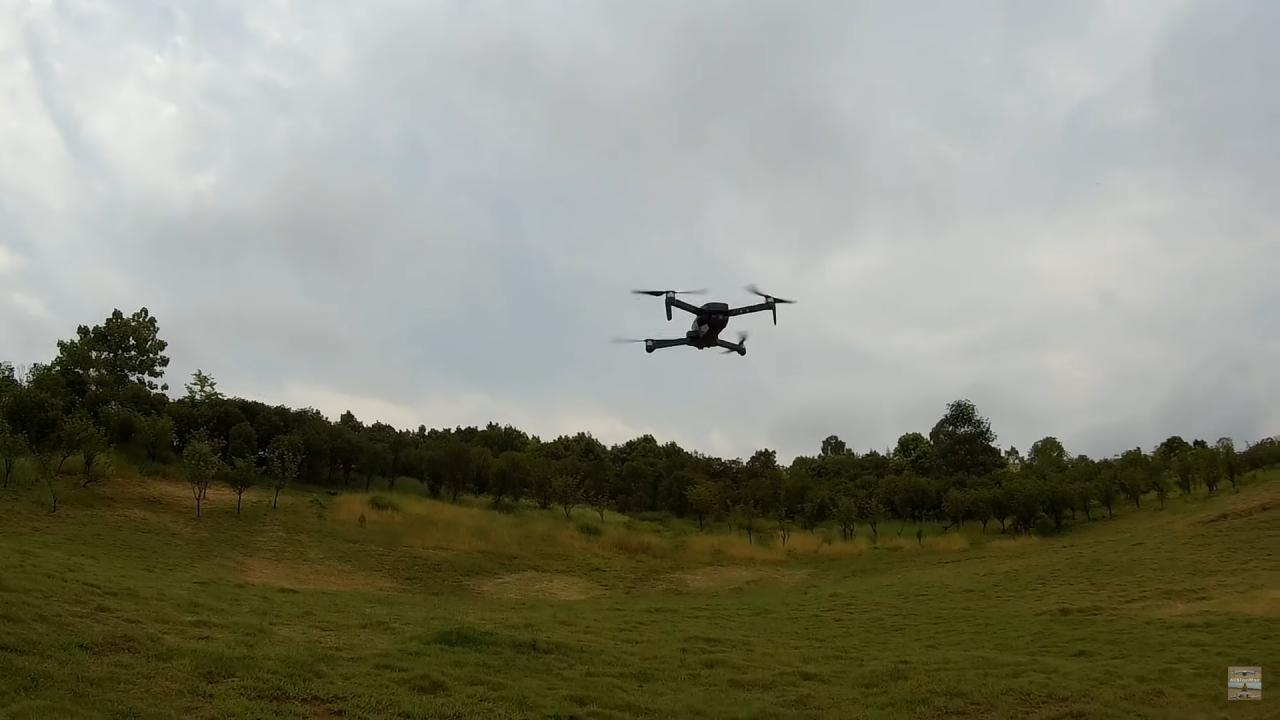Drone: (596, 269, 811, 373)
